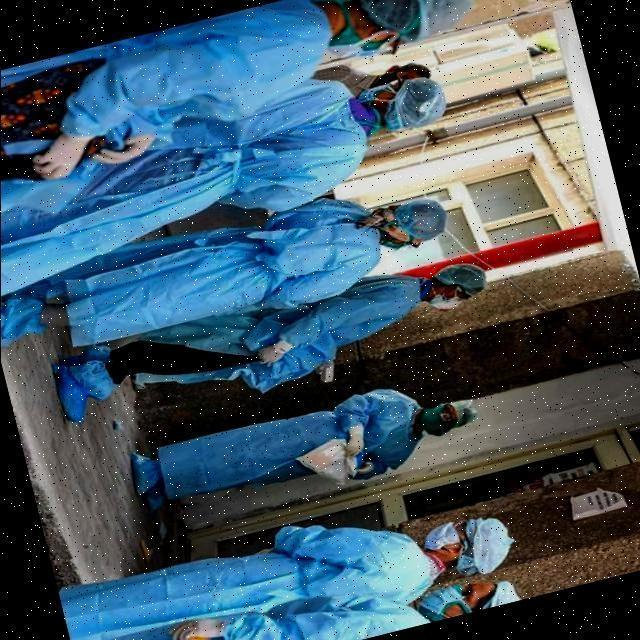apron: (98, 130, 154, 172), (34, 130, 80, 180), (266, 333, 294, 379), (343, 410, 364, 465), (324, 356, 346, 388)
gloves: (394, 74, 448, 128), (399, 0, 466, 41), (471, 513, 512, 568), (400, 190, 440, 246), (444, 262, 492, 294), (458, 404, 480, 428), (496, 588, 518, 610)
